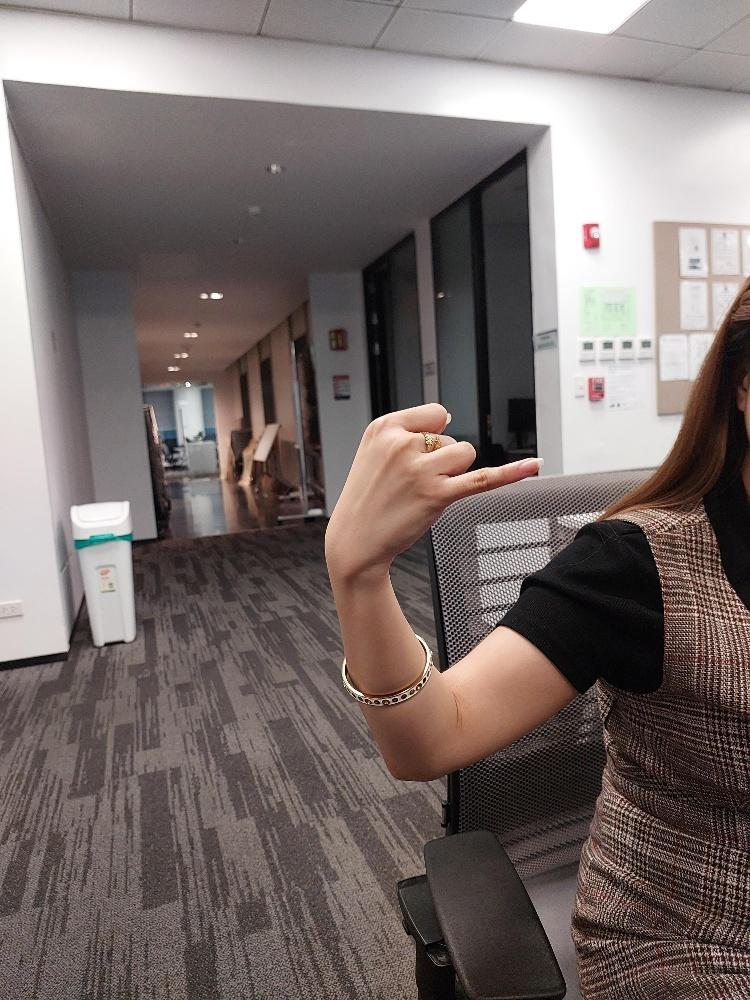j: (320, 400, 545, 581)
